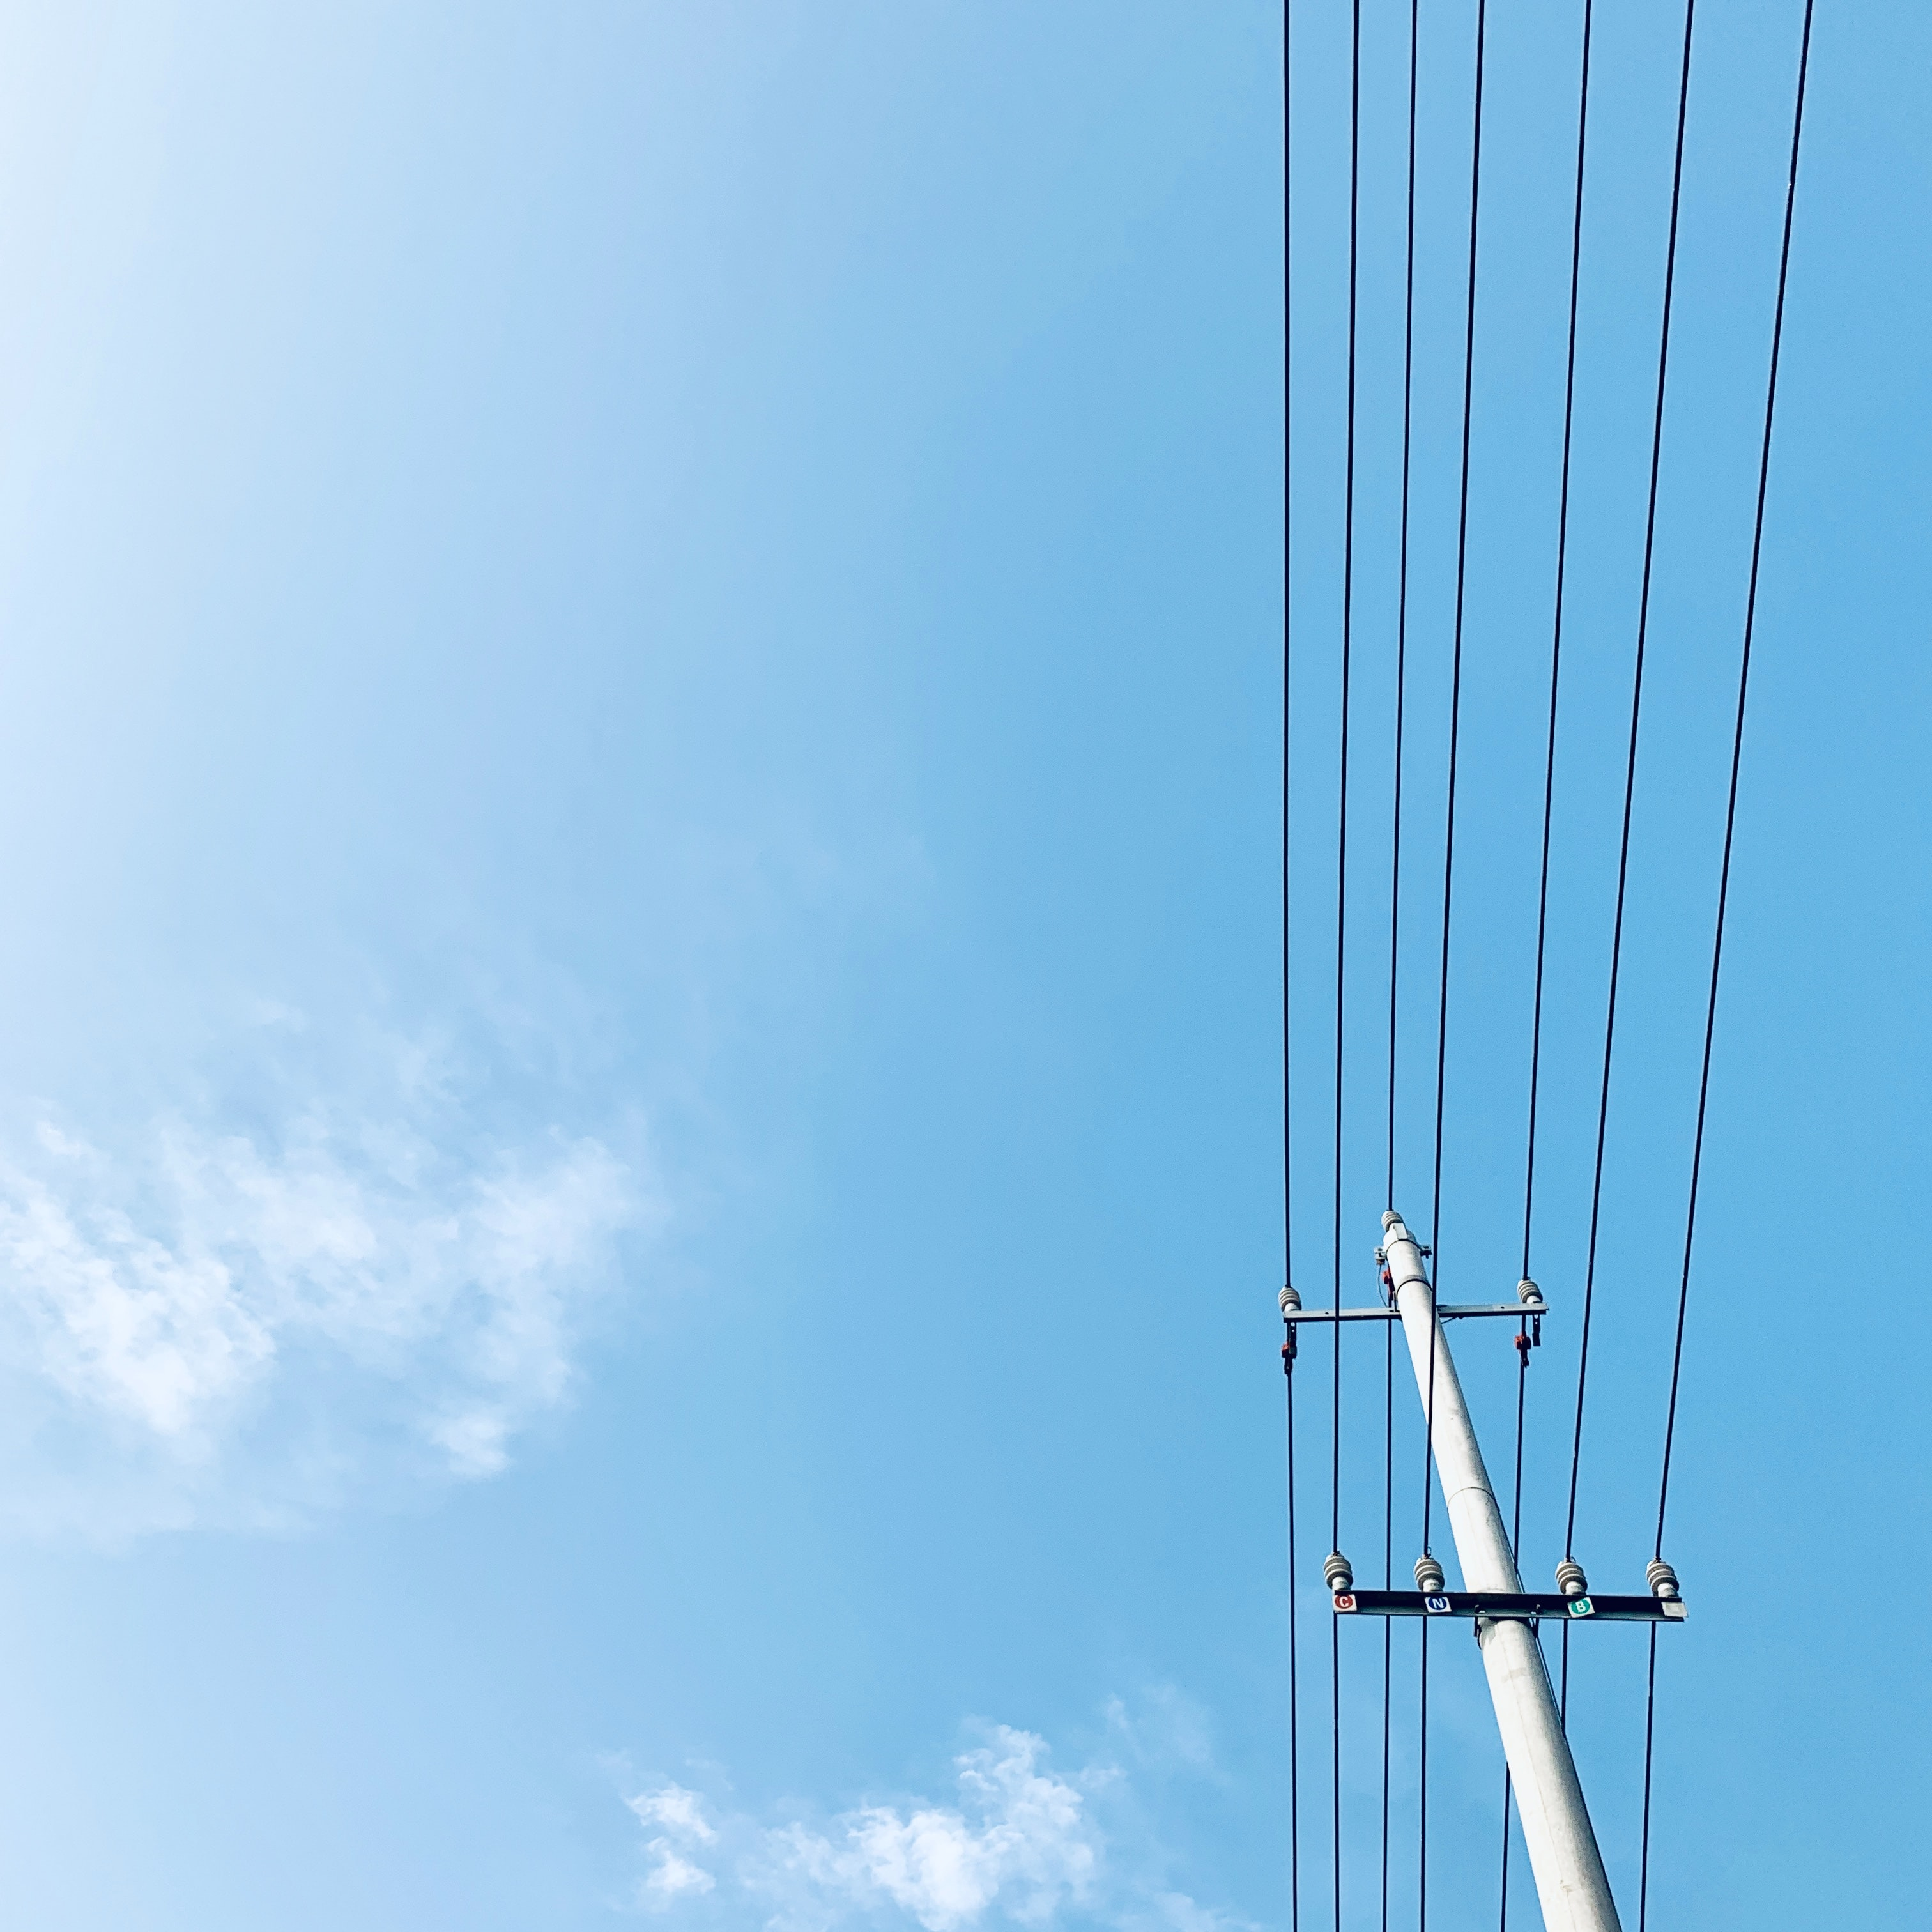utility_pole: (1237, 1184, 1709, 1737)
